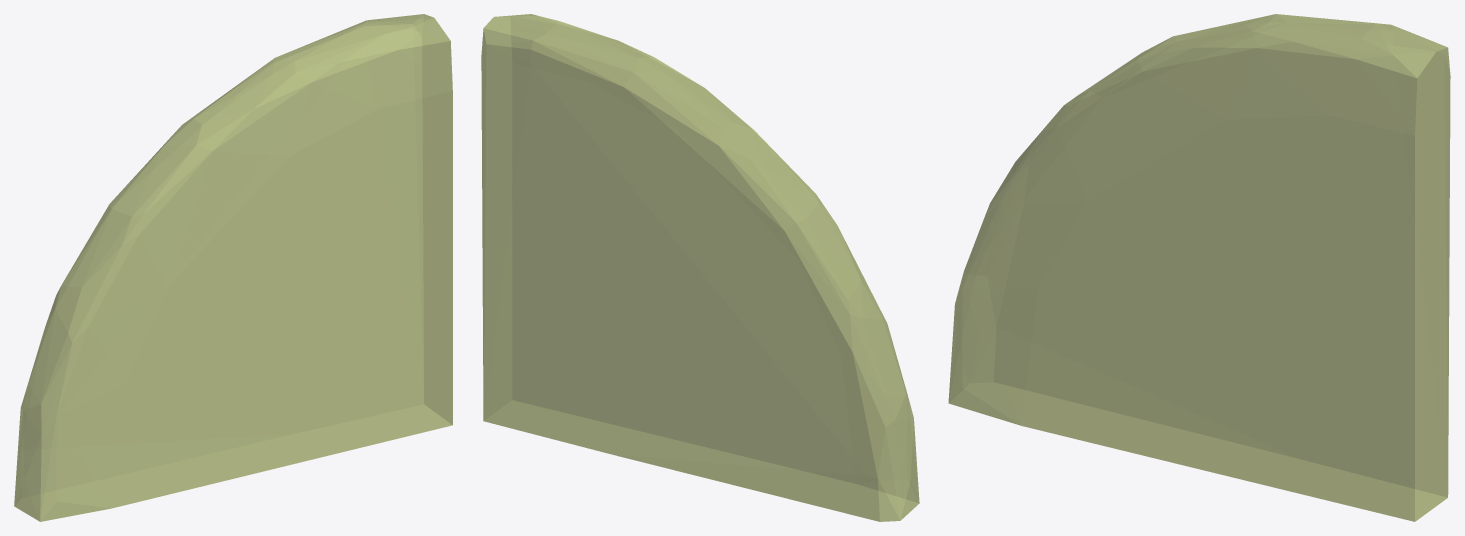
The picture shows the model from 3 angles, left to right: view 1: azimuth 30°, elevation 25°; view 2: azimuth 150°, elevation 25°; view 3: azimuth 330°, elevation 25°; orthographic projection. The views are drawn at different scales.
Parts seen in each view (by area): view 1: Shape_IndexedFaceSet.002_Shape_IndexedFaceSet.8660; view 2: Shape_IndexedFaceSet.002_Shape_IndexedFaceSet.8660; view 3: Shape_IndexedFaceSet.002_Shape_IndexedFaceSet.8660.
Part boxes in pixels (<box>): Shape_IndexedFaceSet.002_Shape_IndexedFaceSet.8660: <box>14,14,452,521</box>; Shape_IndexedFaceSet.002_Shape_IndexedFaceSet.8660: <box>481,14,919,521</box>; Shape_IndexedFaceSet.002_Shape_IndexedFaceSet.8660: <box>948,14,1450,521</box>.
Size of the model in its own units: 0.0674 by 0.0622 by 0.00988.
